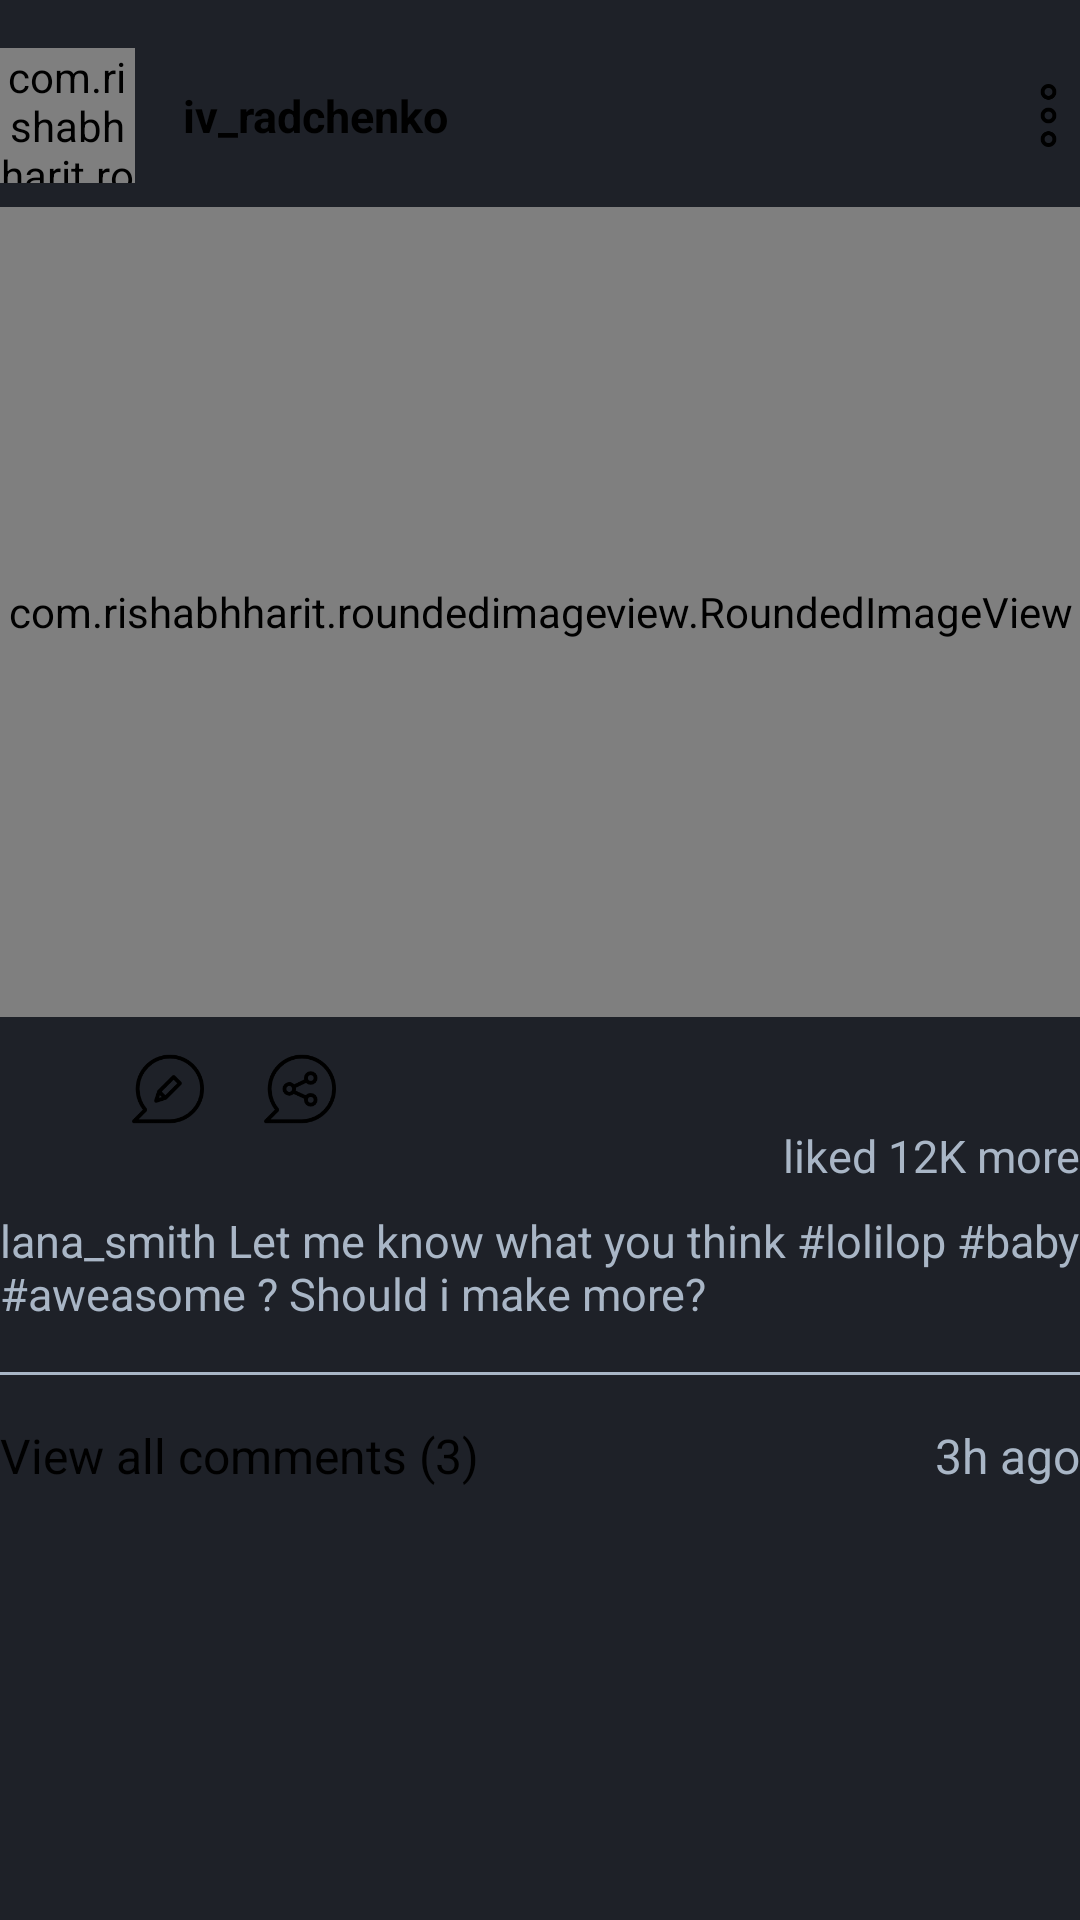

Screen size 1080px×1920px. Icon name, then its center in pixels as (x=x, y=y):
comment: (x=168, y=1089)
more: (x=1048, y=115)
share: (x=300, y=1089)
